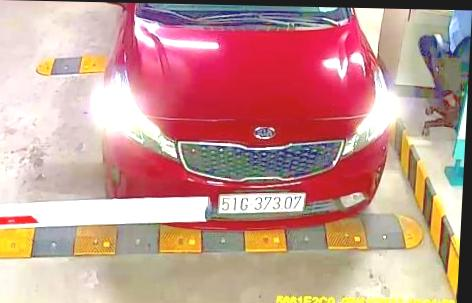License_Plate: (212, 189, 311, 218)
